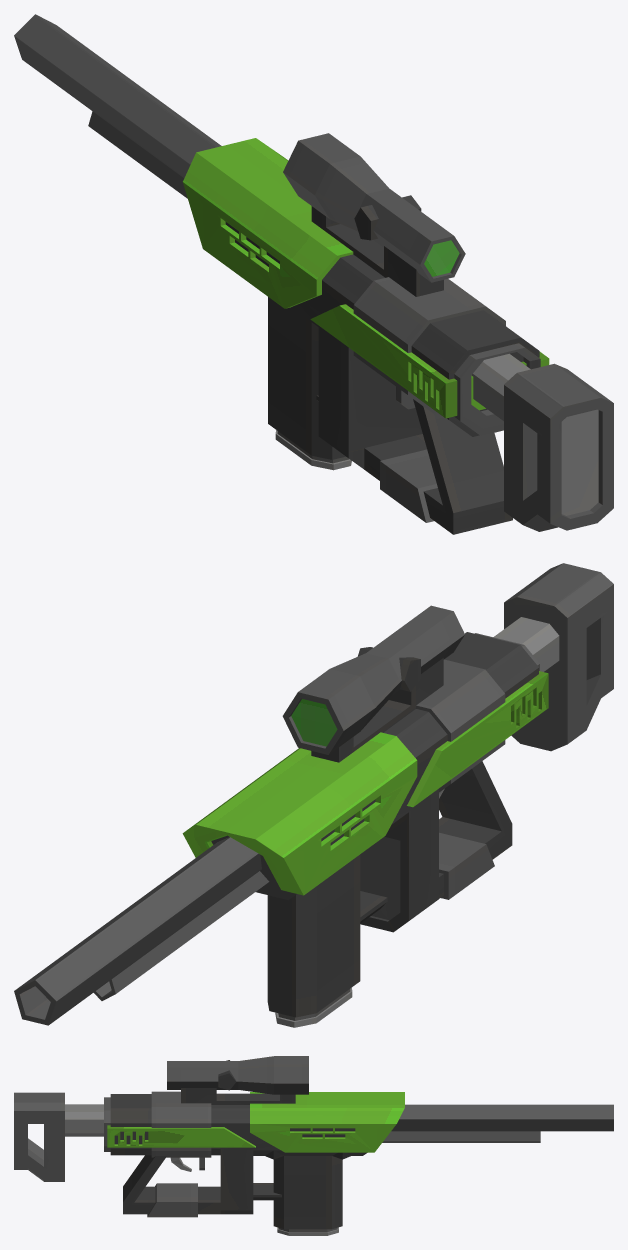
Rendered from sniper_1.glb.
The picture shows the model from 3 angles, top to bottom: view 1: azimuth 30°, elevation 25°; view 2: azimuth 150°, elevation 25°; view 3: azimuth 270°, elevation 25°; orthographic projection. The views are drawn at different scales.
Visible parts, largest first — view 1: sniper_1; view 2: sniper_1; view 3: sniper_1.
Boxes of the visible parts, <box> form: sniper_1: <box>14,14,613,534</box>; sniper_1: <box>14,563,613,1027</box>; sniper_1: <box>14,1056,613,1235</box>.
Size of the model in its own units: 0.0892 by 0.2558 by 0.8182.
Materials: 1 (1 with a texture image).
